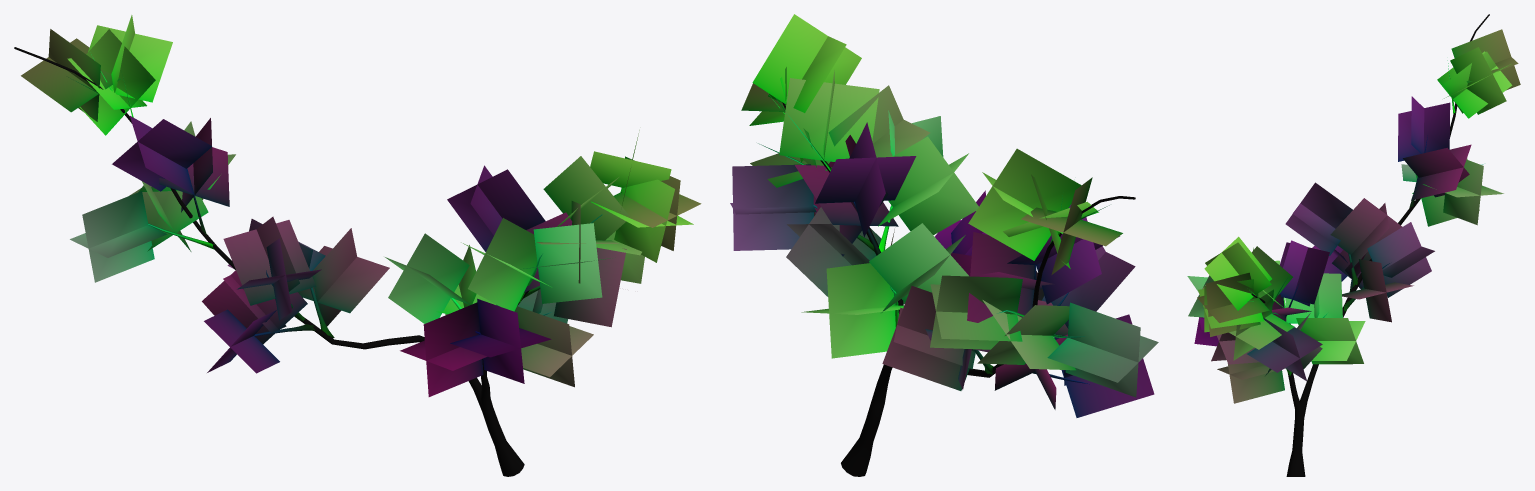
The model's file is M_P5_Tree_9.fbx.
3 renders of one model, left to right at view 1: azimuth 30°, elevation 25°; view 2: azimuth 150°, elevation 25°; view 3: azimuth 270°, elevation 25°, orthographic. The views are drawn at different scales.
Visible parts, largest first — view 1: Tree_9; view 2: Tree_9; view 3: Tree_9.
Boxes of the visible parts, x1=… form: Tree_9: x1=14, y1=15, x2=701, y2=476; Tree_9: x1=730, y1=14, x2=1158, y2=476; Tree_9: x1=1187, y1=14, x2=1520, y2=476.
Bounding box in the file's own units: 650 × 530 × 478.
